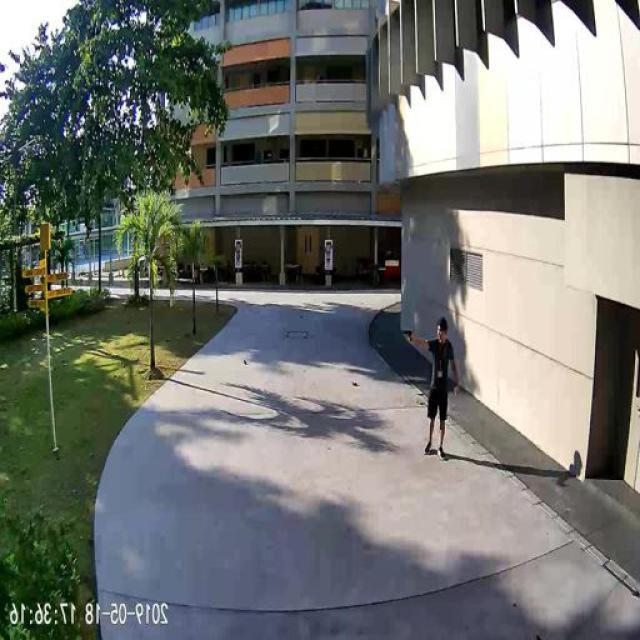weapon: (396, 327, 416, 345)
